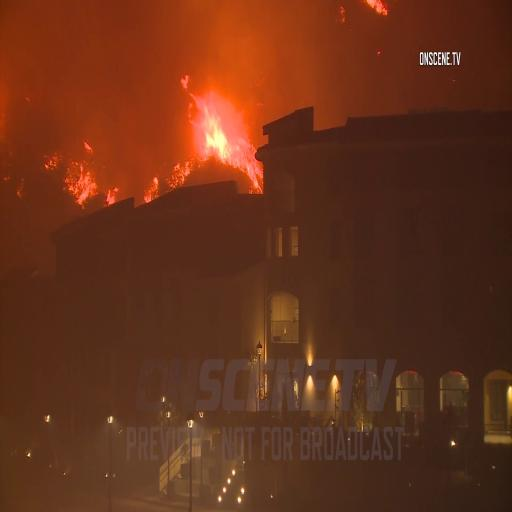fire: (174, 64, 261, 189), (62, 158, 116, 209)
